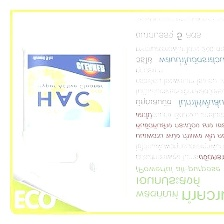cleaning_solution: (18, 24, 120, 176)
